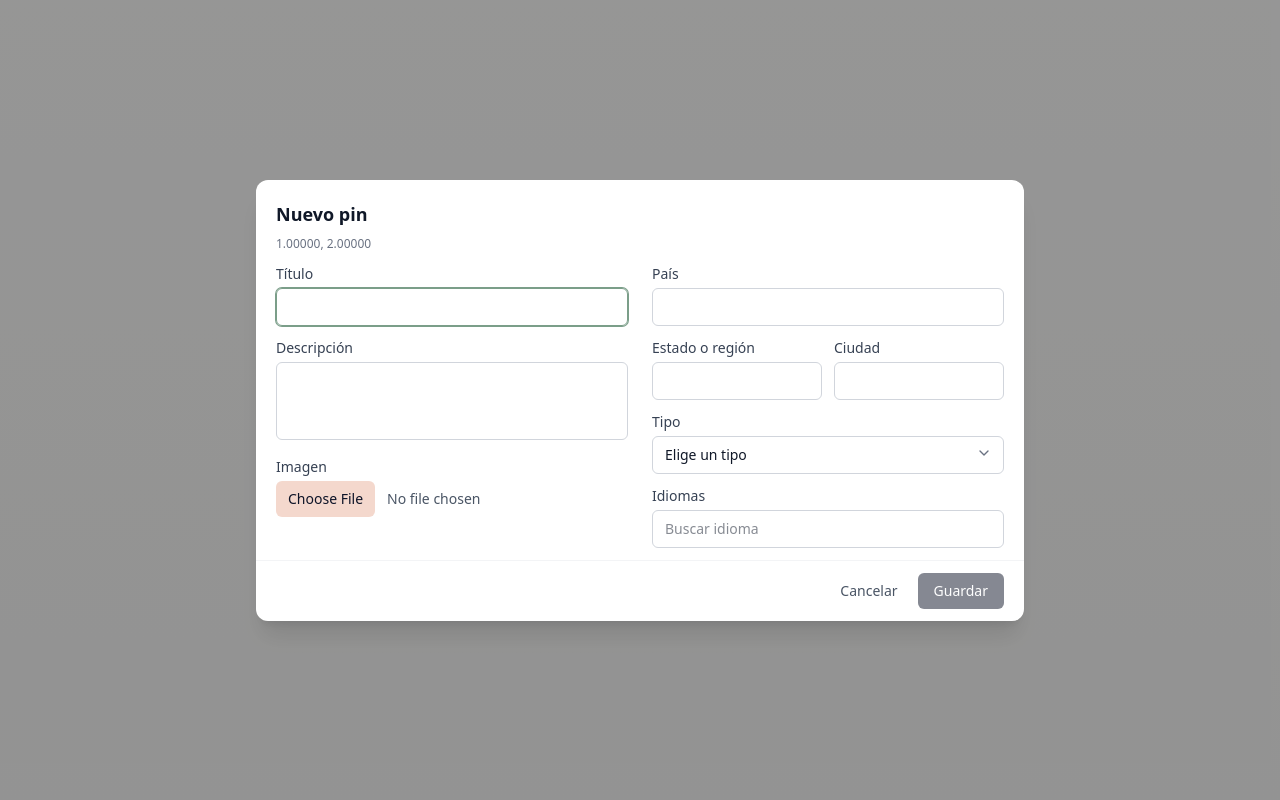
Test case: PinFormModal › shows the error when saving fails
The width and height of the screenshot is (1280, 800).
Type "Base" into the field labelled "Título" at point(452, 306), box [276,288,628,326]
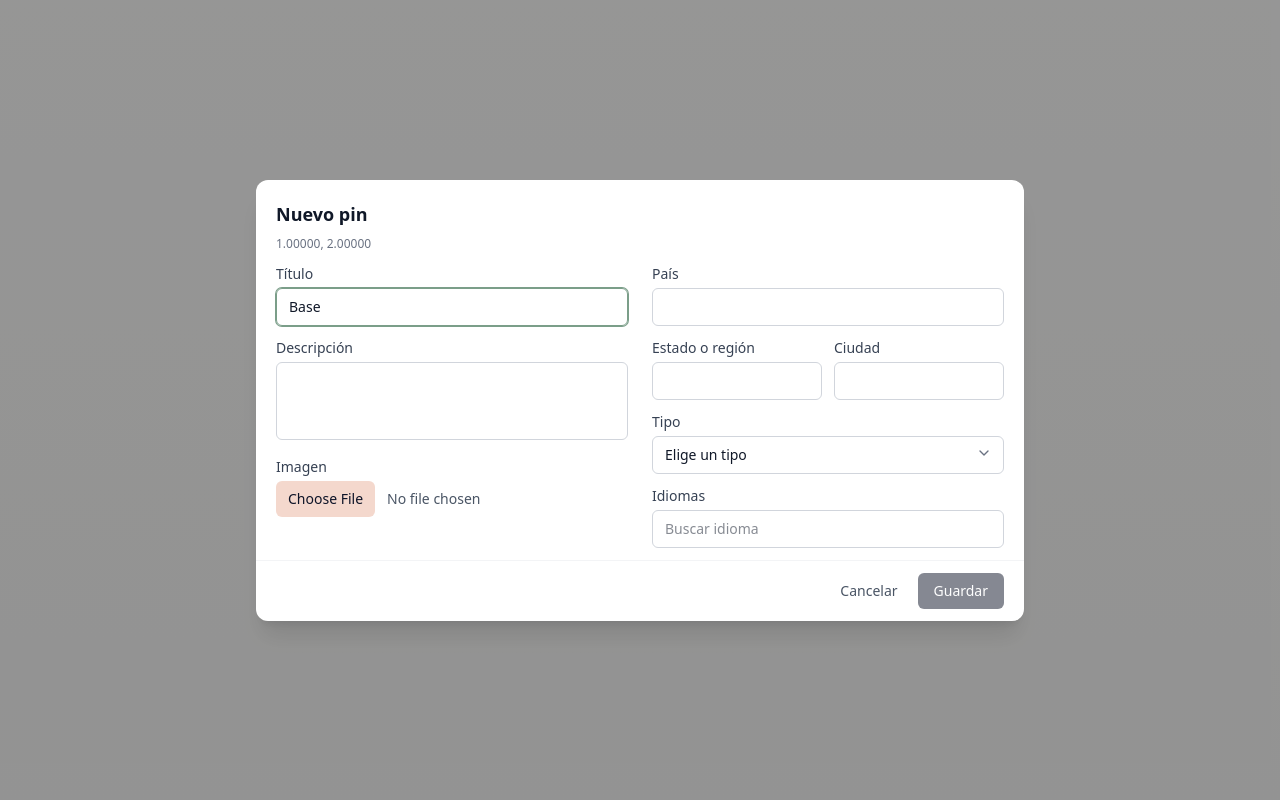
Type "México" into the dropdown labelled "País" at point(828, 306), box [652,288,1004,326]
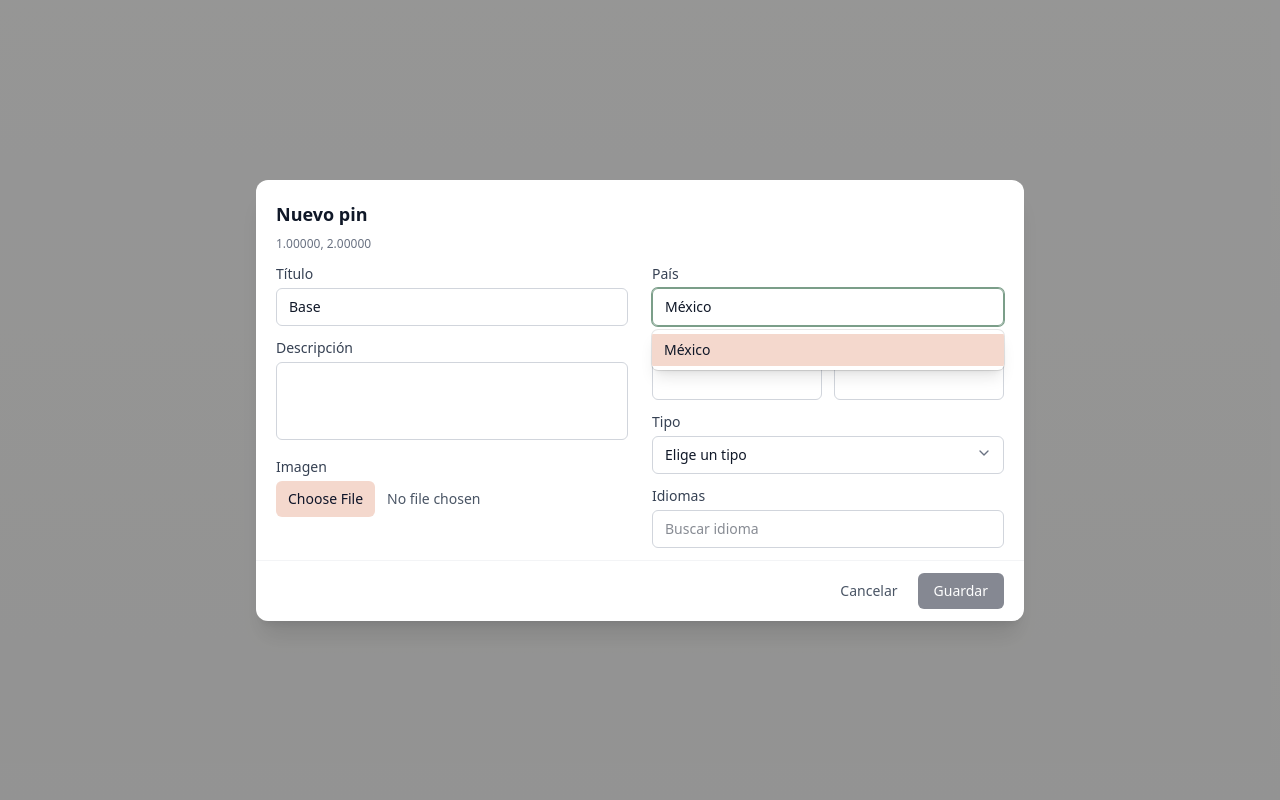
Select "Familia" in the dropdown labelled "Tipo" at point(828, 454), box [652,436,1004,474]
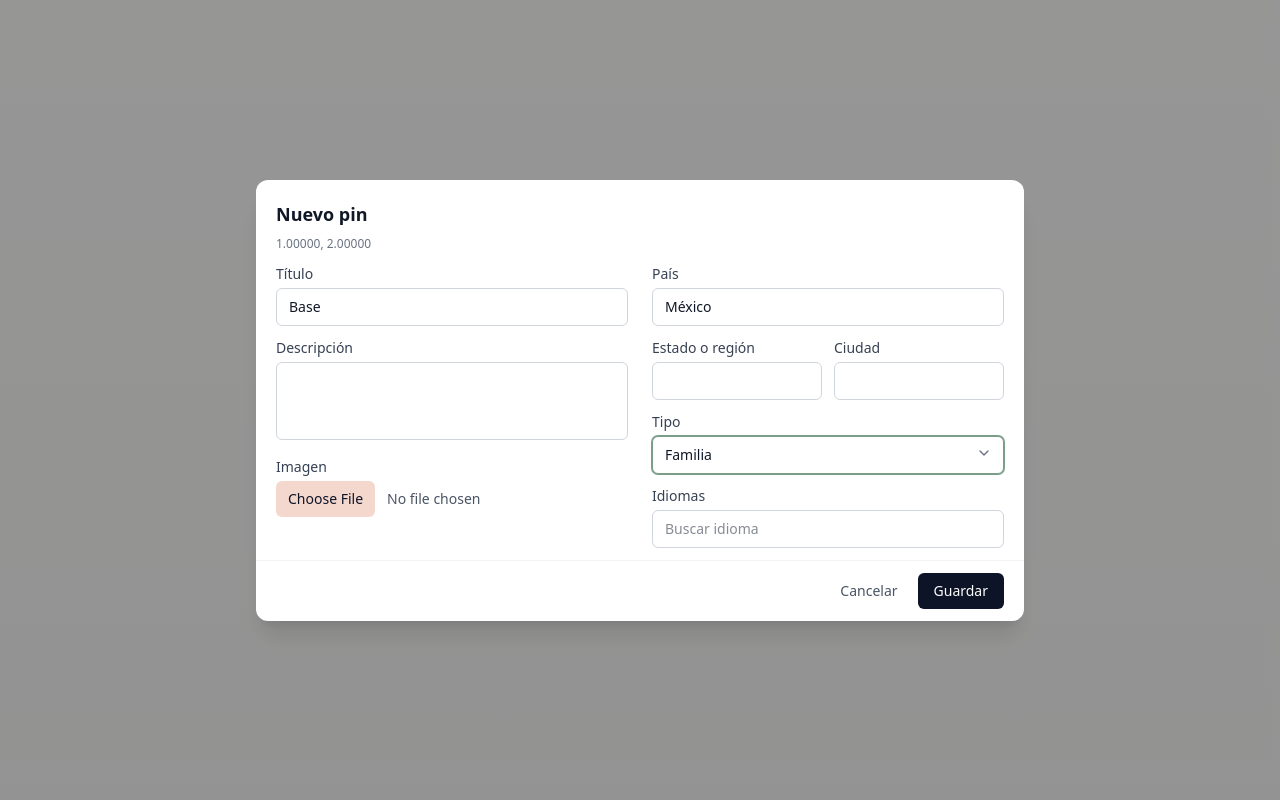
Click the button "Guardar" at point(961, 590), box [918,572,1004,608]
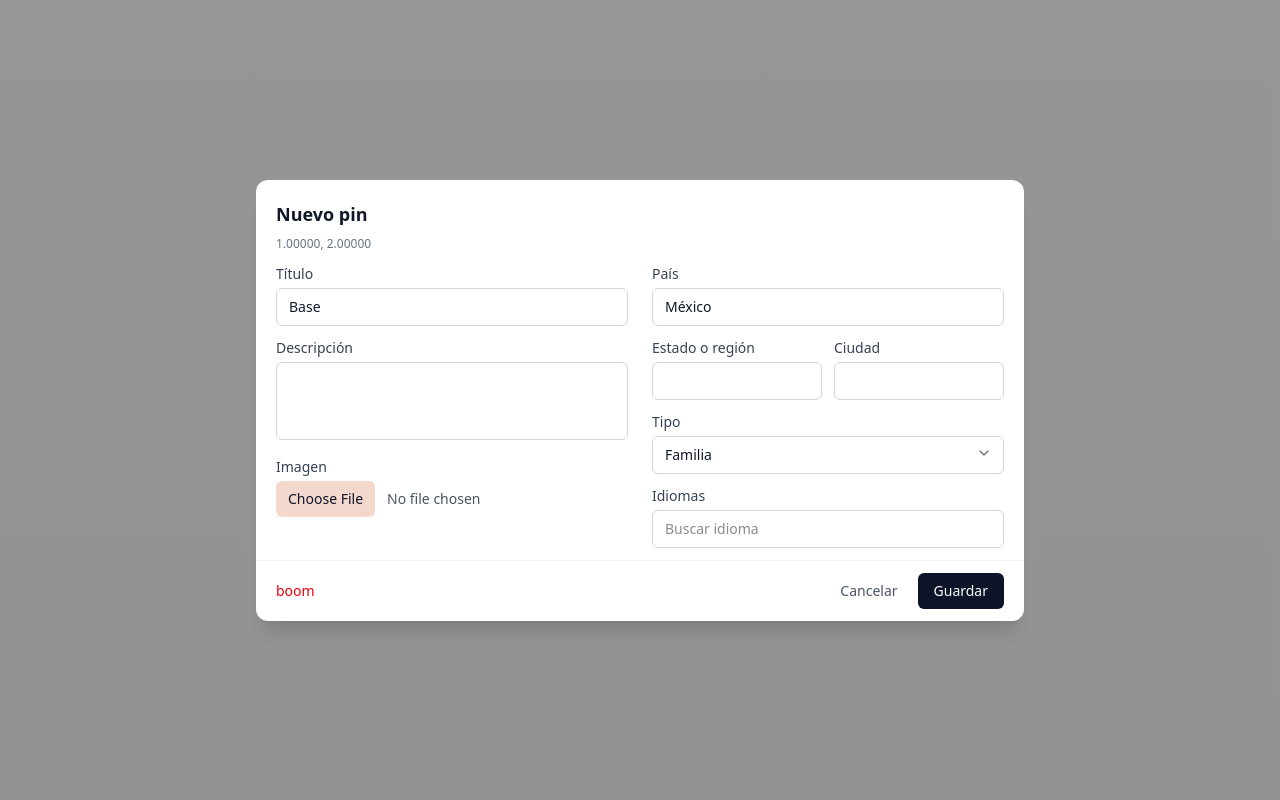
Check: the text "boom" is shown, box [276,580,315,600]
